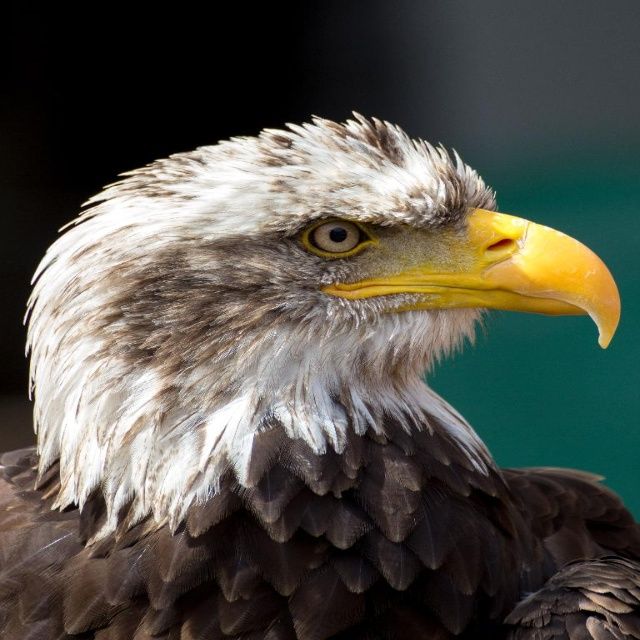Eagle: (0, 107, 639, 640)
